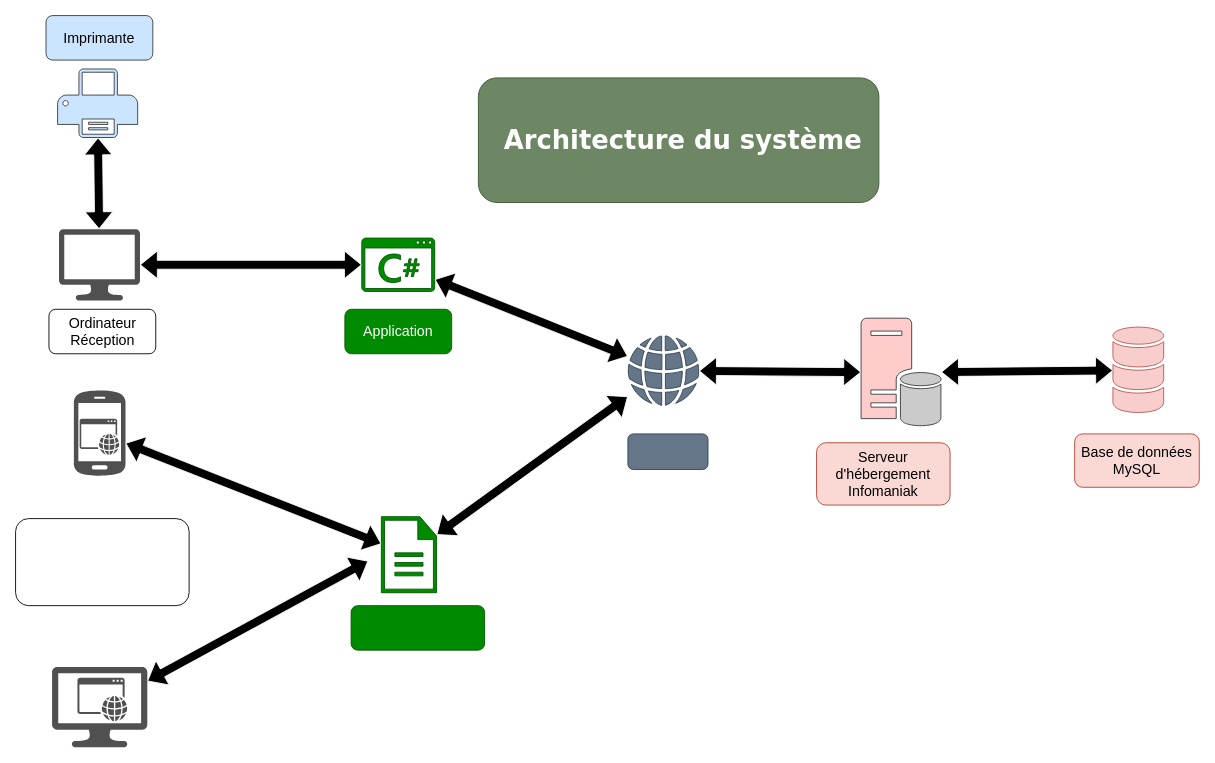
Image size: 1215x763. Some labels were removed from this diagram. The box of each missing label's shape, as (x1, y1, x2, y2) in pixels:
Formulaire WEB: (350, 605, 485, 650)
Internet: (627, 433, 708, 469)
Navigation du client avec son appareil sur le site internet: (15, 518, 189, 606)
